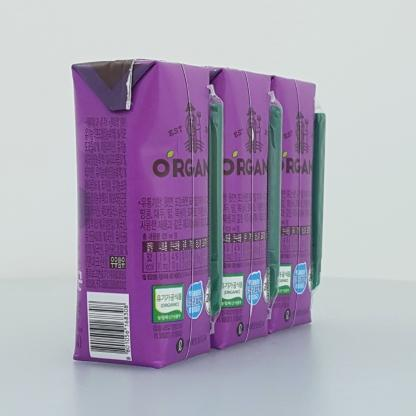---------------: (71, 58, 224, 369), (174, 67, 283, 350), (248, 76, 326, 335)
